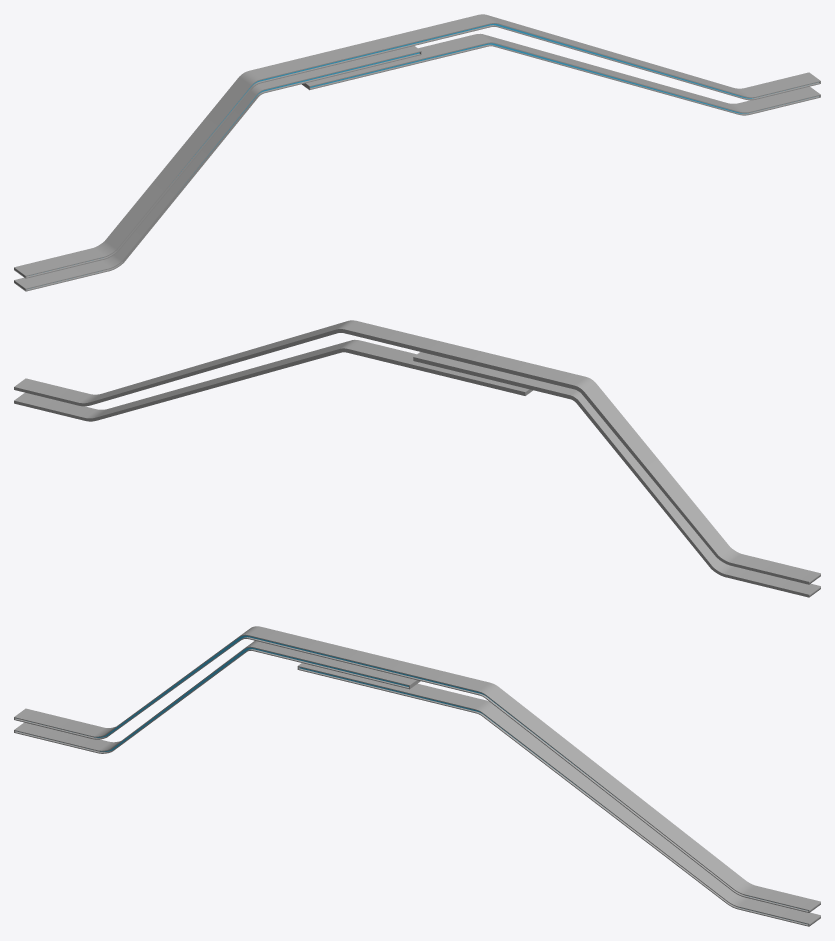
File: W_O_Playground_Stage_001_L0.fbx
The picture shows the model from 3 angles, top to bottom: view 1: azimuth 30°, elevation 25°; view 2: azimuth 150°, elevation 25°; view 3: azimuth 330°, elevation 25°; orthographic projection.
Visible parts, largest first — view 1: W_O_Playground_Stage_001_L0; view 2: W_O_Playground_Stage_001_L0; view 3: W_O_Playground_Stage_001_L0.
Part boxes in pixels (box(x1,y1,x2,y2)): W_O_Playground_Stage_001_L0: box(14, 14, 820, 291); W_O_Playground_Stage_001_L0: box(14, 320, 820, 597); W_O_Playground_Stage_001_L0: box(14, 626, 820, 926).
Size of the model in its own units: 38.98 by 1 by 7.25.
